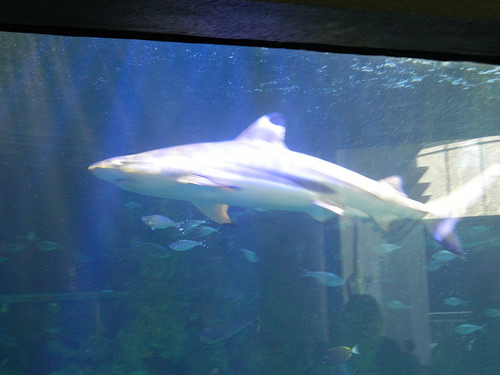shark: (71, 77, 496, 274)
